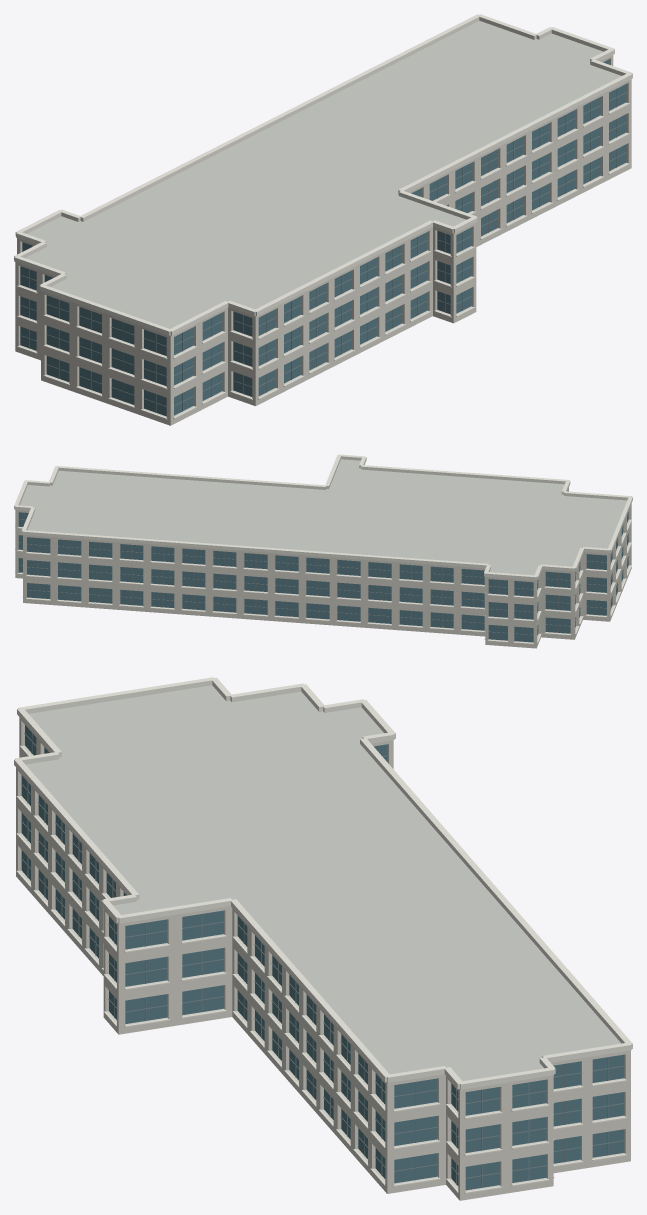
3 views of the same model, one above another, from view 1: azimuth 30°, elevation 25°; view 2: azimuth 150°, elevation 25°; view 3: azimuth 270°, elevation 25° (orthographic). The views are drawn at different scales.
Parts seen in each view (by area): view 1: roof, wall, glass, trim, metal; view 2: roof, wall, glass, trim, metal; view 3: roof, wall, glass, trim, metal.
Boxes of the visible parts, bbox=[...] form: roof: bbox=[25, 21, 621, 328]; wall: bbox=[15, 55, 631, 425]; glass: bbox=[20, 59, 626, 416]; trim: bbox=[14, 14, 632, 419]; metal: bbox=[20, 89, 626, 412]; roof: bbox=[20, 459, 627, 575]; wall: bbox=[15, 488, 631, 648]; glass: bbox=[18, 511, 628, 642]; trim: bbox=[14, 454, 632, 644]; metal: bbox=[18, 512, 628, 641]; roof: bbox=[26, 685, 621, 1081]; wall: bbox=[16, 717, 630, 1200]; glass: bbox=[21, 725, 624, 1190]; trim: bbox=[14, 677, 632, 1193]; metal: bbox=[21, 733, 624, 1187].
Bounding box in the file's own units: 72.57 × 9.74 × 46.6.
